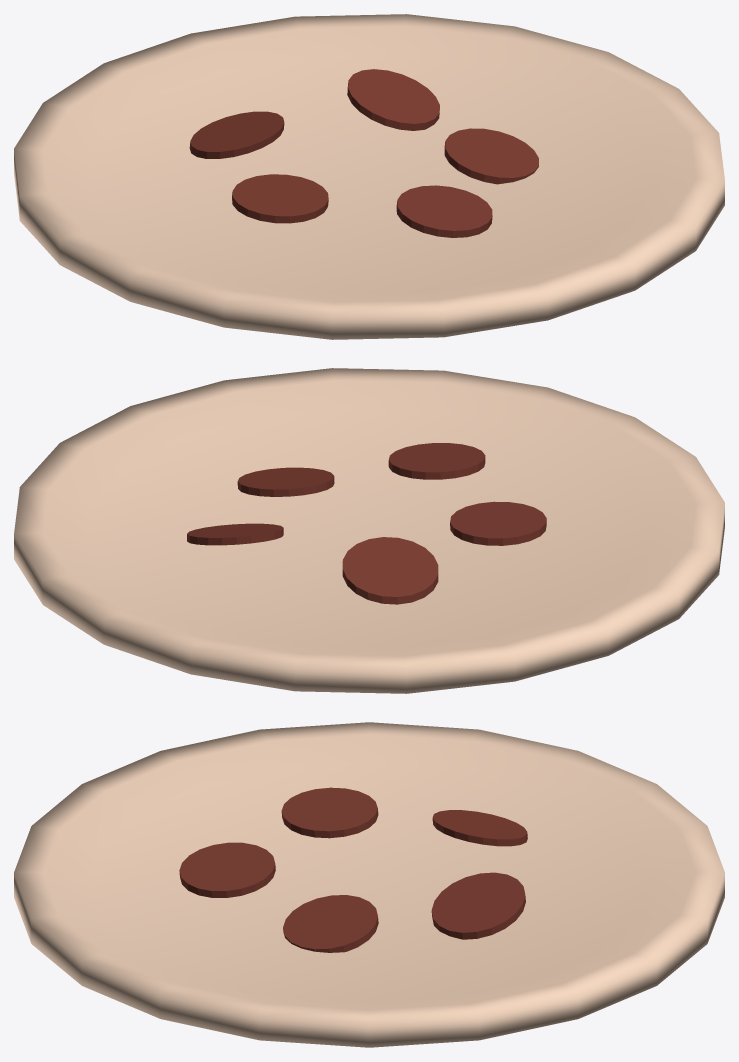
File: RawPizza(WithPepperoni).glb
The picture shows the model from 3 angles, top to bottom: view 1: azimuth 30°, elevation 25°; view 2: azimuth 150°, elevation 25°; view 3: azimuth 270°, elevation 25°; orthographic projection.
Parts seen in each view (by area): view 1: Cylinder.044; view 2: Cylinder.044; view 3: Cylinder.044.
Boxes of the visible parts, box(x1,y1,x2,y2) form: Cylinder.044: box(14, 14, 724, 339); Cylinder.044: box(14, 368, 724, 693); Cylinder.044: box(14, 722, 724, 1047).
Bounding box in the file's own units: 0.8833 × 0.0637 × 0.8833.
